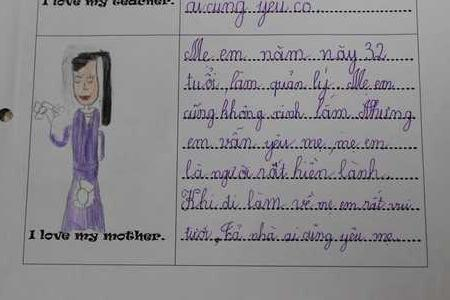text: (183, 96, 414, 134), (183, 35, 388, 75), (186, 124, 390, 163), (184, 66, 394, 102), (184, 153, 386, 190), (182, 220, 394, 254), (180, 186, 414, 214), (185, 0, 314, 29), (26, 228, 165, 242), (38, 0, 174, 9)
